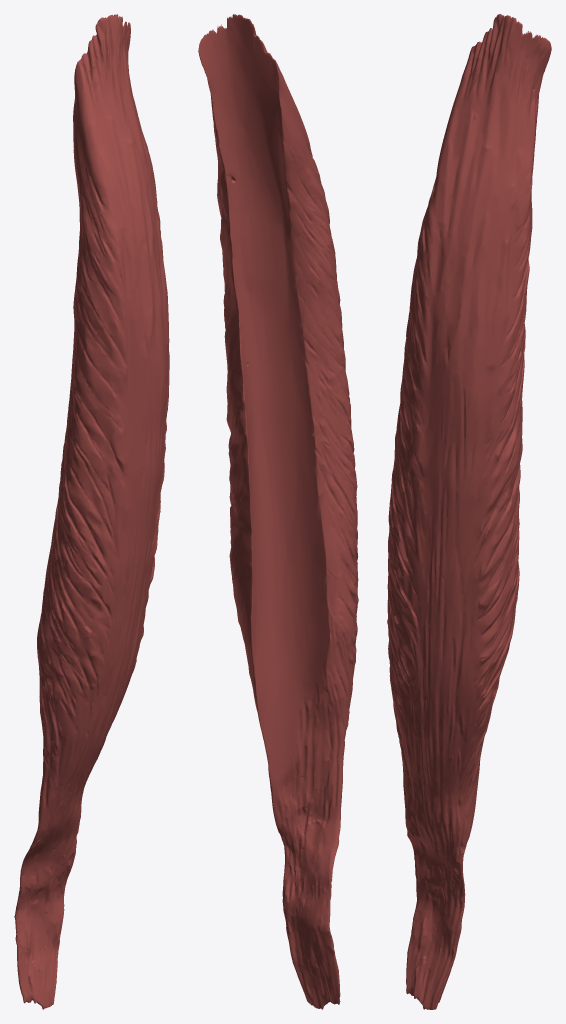
The model's file is FMA38935.glb.
The picture shows the model from 3 angles, left to right: view 1: azimuth 30°, elevation 25°; view 2: azimuth 150°, elevation 25°; view 3: azimuth 330°, elevation 25°; orthographic projection. The views are drawn at different scales.
Parts seen in each view (by area): view 1: FMA38935; view 2: FMA38935; view 3: FMA38935.
Boxes of the visible parts, box(x1,y1,x2,y2) form: FMA38935: box(14, 14, 169, 1009); FMA38935: box(198, 14, 358, 1009); FMA38935: box(387, 14, 551, 1009).
Size of the model in its own units: 0.0548 by 0.3953 by 0.0464.
